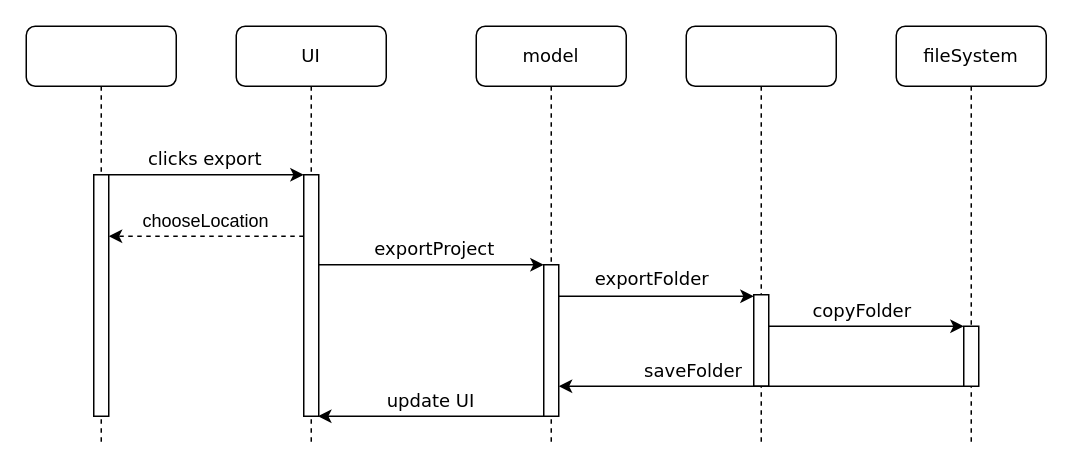
Some shapes in this 1073 by 473 pixel diagram are drawn without their labels. The shapes that lost their labels are listed below. From the top down, each one's box as (x1, y1, x2, y2) in pixels, then its label:
(25, 25, 176, 446): User
(685, 25, 836, 446): fileTree
